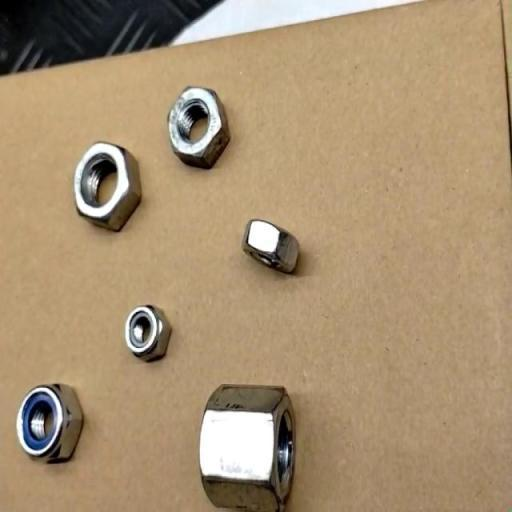Nut: (198, 382, 297, 512), (73, 140, 143, 233), (15, 383, 84, 465), (166, 86, 231, 170), (242, 217, 301, 276), (123, 303, 172, 363)
